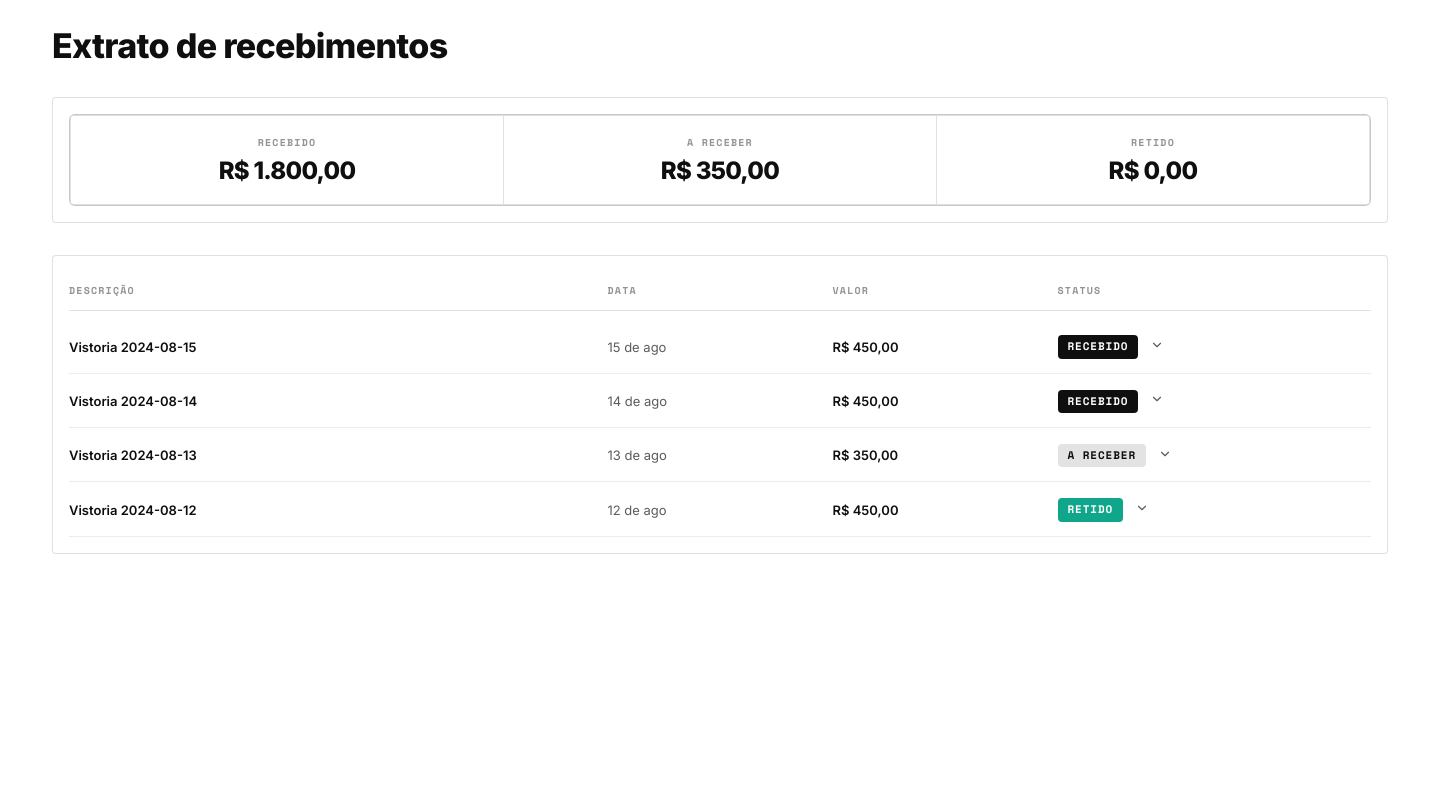
Test: Earnings › handles multiple expanded items sequentially
The image size is (1440, 810).
expect the text "Vistoria 2024-08-15" is shown: met, box [69,338,196,356]
Expand first
Click the text "Vistoria 2024-08-15 15 de ago R$ 450,00 Recebido". click: (720, 347)
box: [69,321,1371,374]
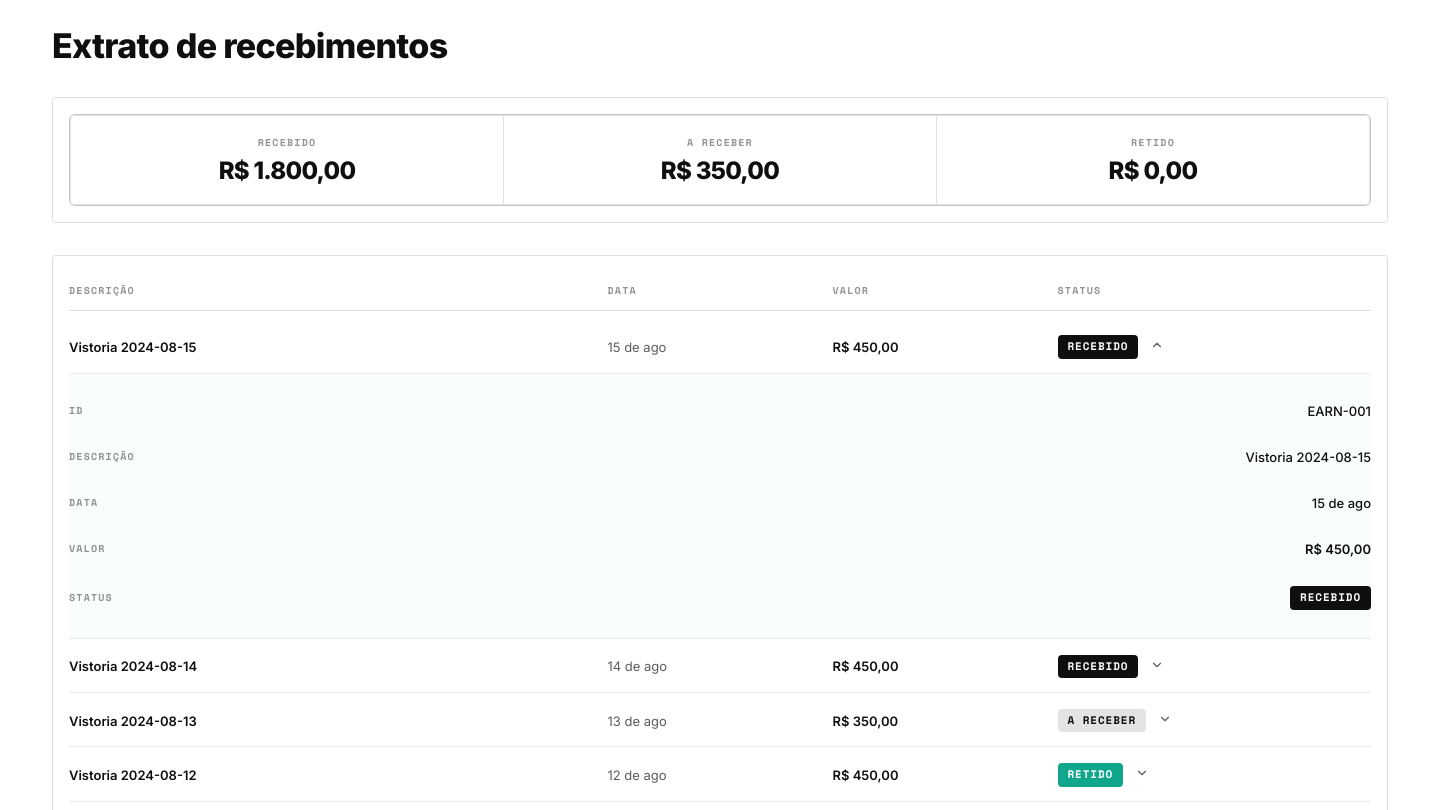
expect the text "ID" is shown: met, box [69,404,84,418]
Collapse first
Click the text "Vistoria 2024-08-15 15 de ago R$ 450,00 Recebido". click: (720, 347)
box: [69,321,1371,374]
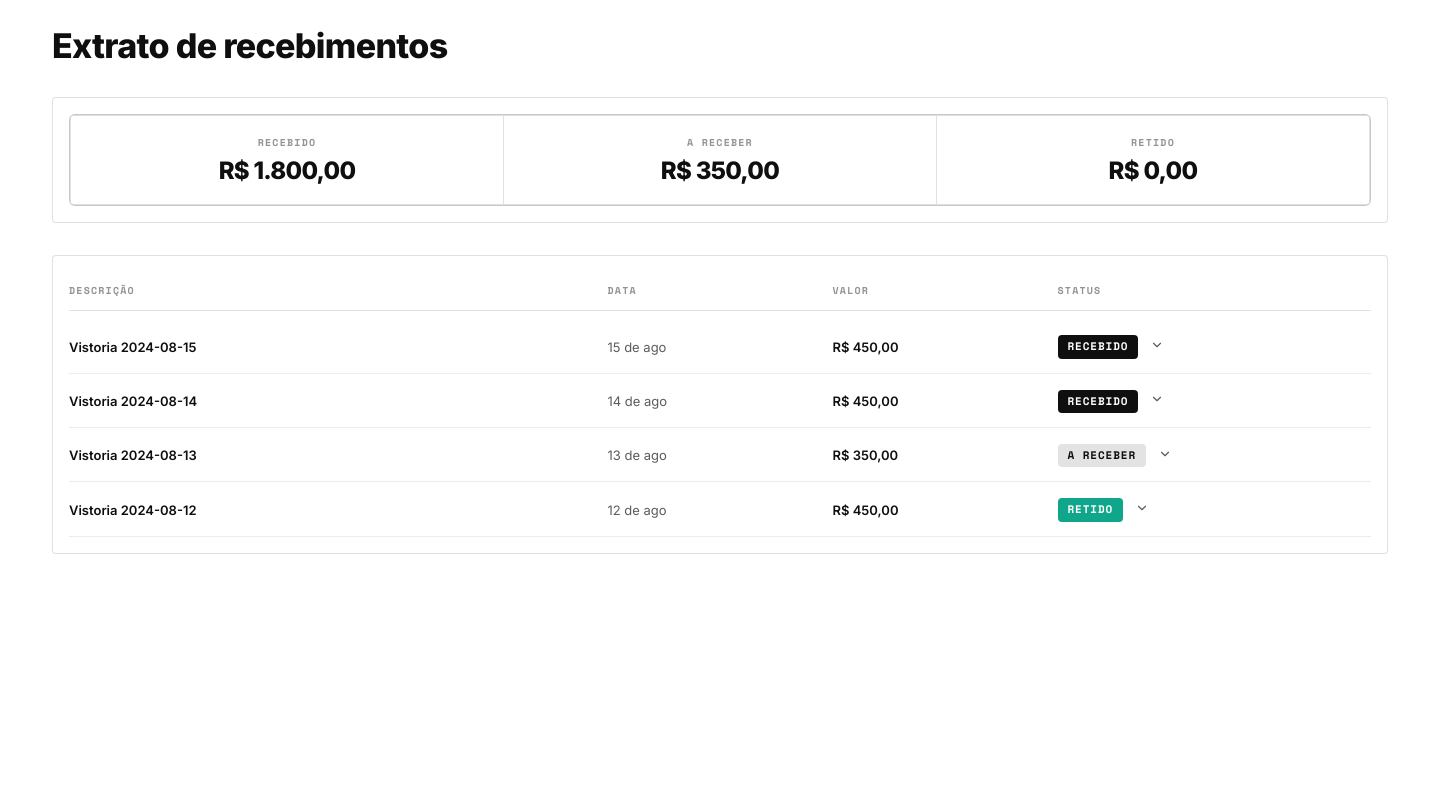
Expand second
Click the text "Vistoria 2024-08-14 14 de ago R$ 450,00 Recebido". click: (720, 402)
box: [69,376,1371,428]
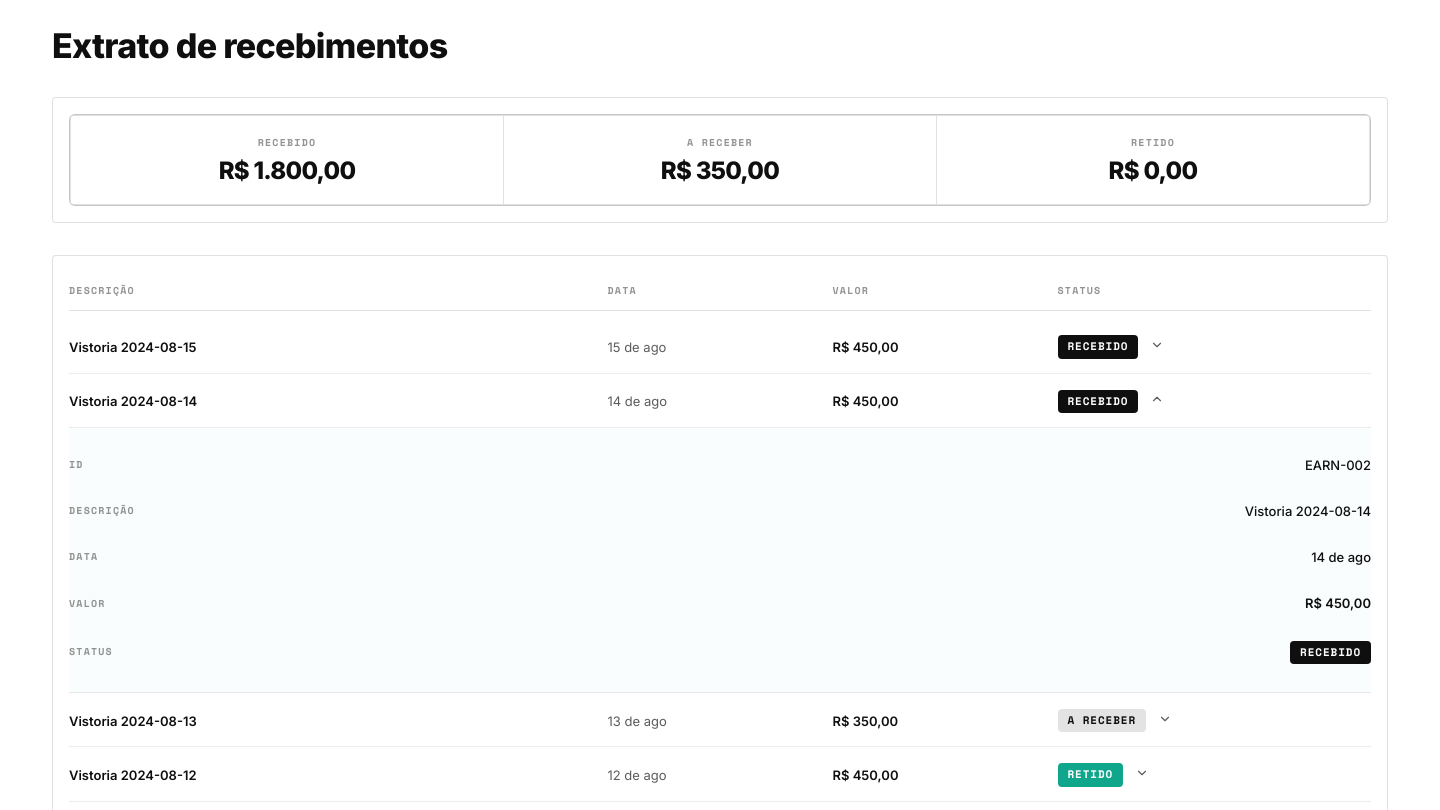
expect the text "ID" is shown: met, box [69,458,84,472]
